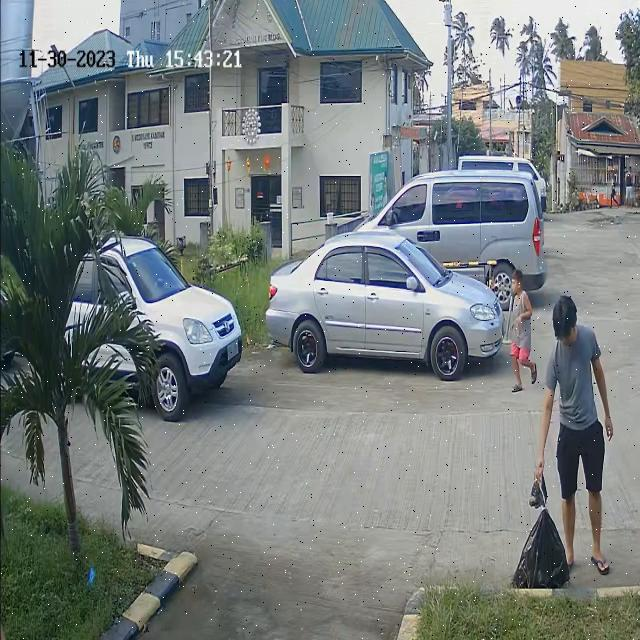human: (548, 300, 614, 580), (504, 271, 537, 396)
trash: (509, 476, 573, 588)
